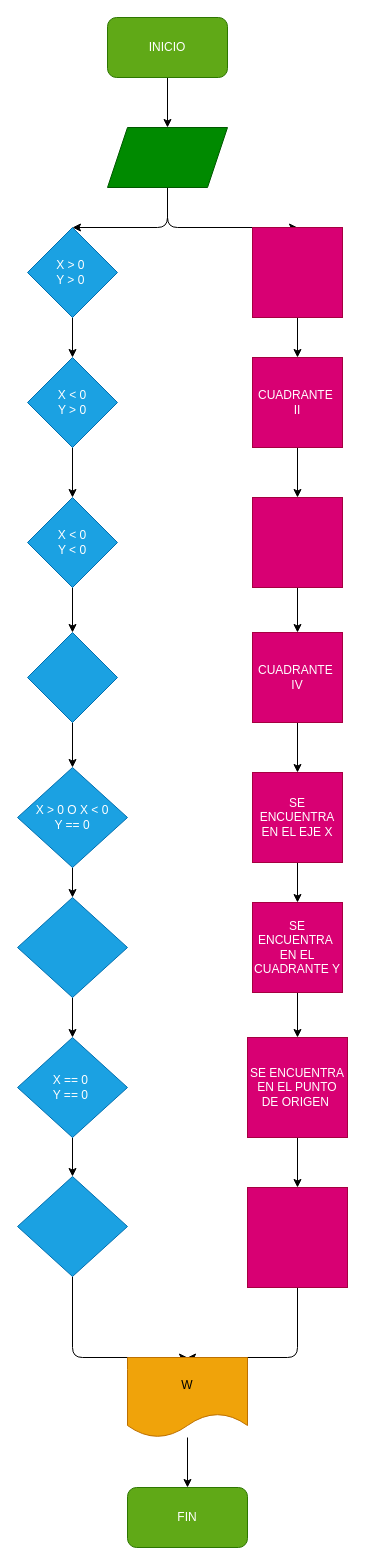
Image size: 365x1565. Some labels were removed from this diagram. Here are the shapes that lost their labels. From the top down, the centre of each, then its label:
(167,157): X , Y
(297,272): CUADRANTE I
(297,542): CUADRANTE III
(72,677): X > 0 Y < 0
(72,947): X == 0 Y > 0 O < 0
(297,1237): DIGITE LOS PUNTOS PRECISOS
